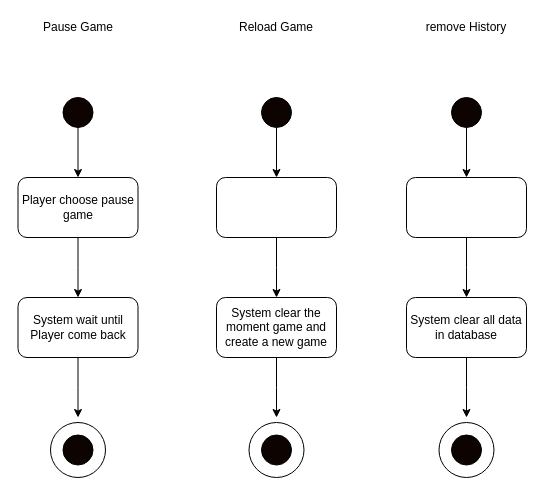
Image size: 544x495. Some labels were removed from this diagram. The shapes that lost their labels are listed below. From the top down, each one's centre as x and y in pixels, then its label:
At (276,207): "Player choose reload game".
At (466,207): "Player choose Remove game".
